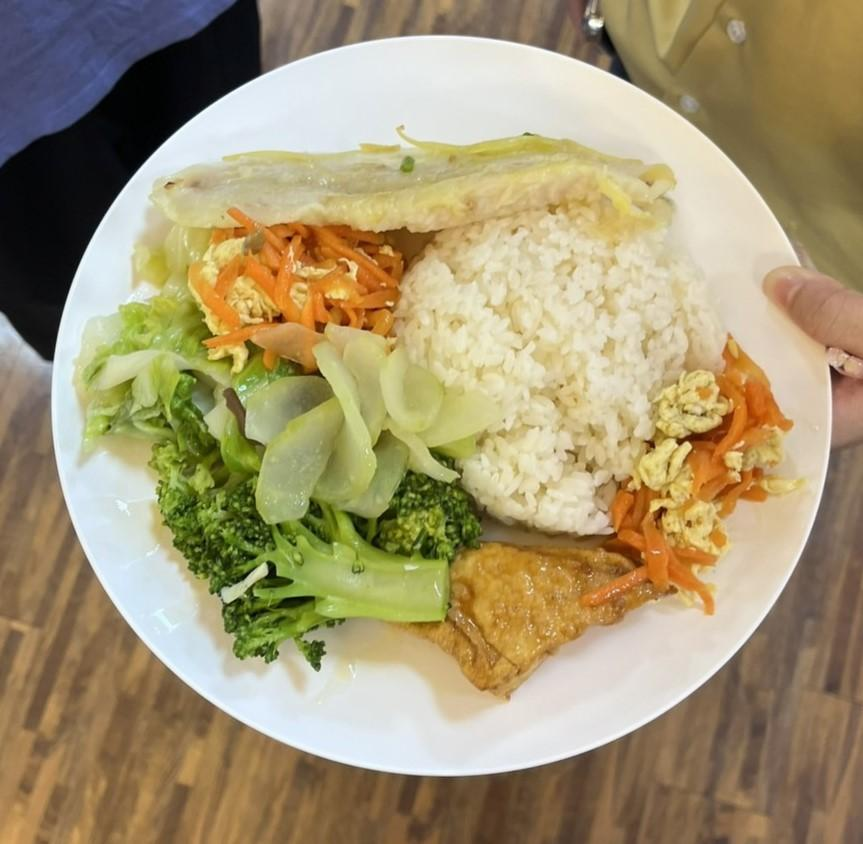big fried chicken leg: (50, 14, 841, 781)
big herbal chicken leg: (396, 216, 724, 531)
braised fish fillet: (82, 308, 471, 512), (154, 446, 481, 659), (398, 535, 659, 705), (619, 360, 782, 593), (186, 216, 423, 350)
braised pork ribs: (131, 125, 696, 240)
